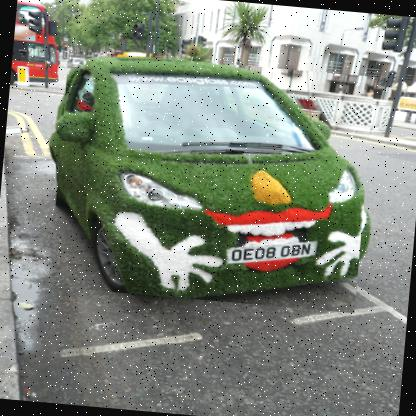Car: (48, 50, 376, 313), (68, 53, 86, 70), (68, 54, 80, 66), (77, 60, 87, 69)
